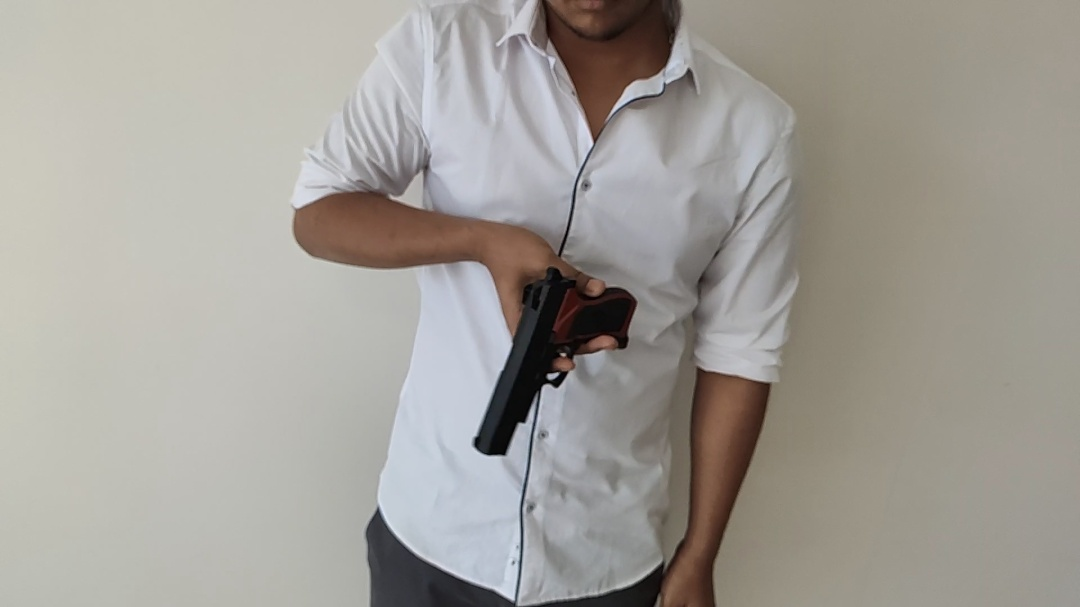gun: (471, 266, 639, 457)
